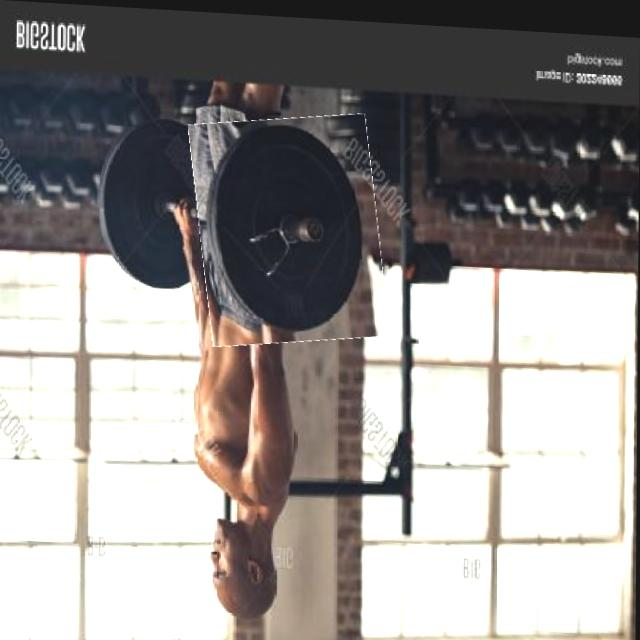barbell: (195, 107, 386, 348)
